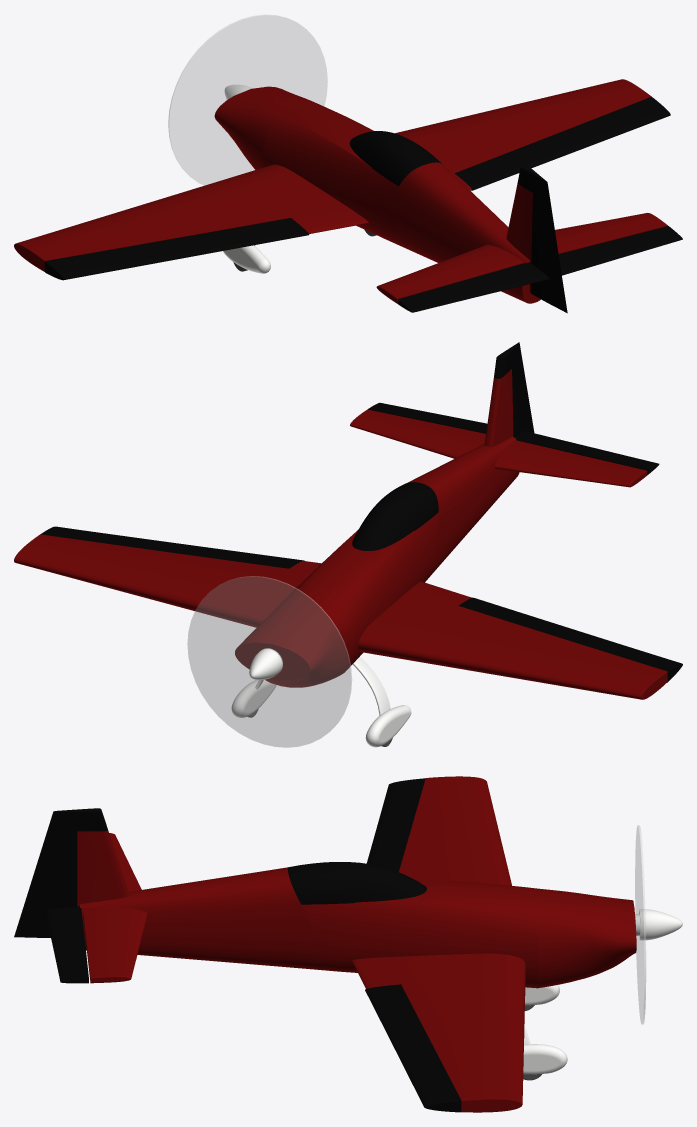
3 views of the same model, one above another, from view 1: azimuth 30°, elevation 25°; view 2: azimuth 150°, elevation 25°; view 3: azimuth 270°, elevation 25° (orthographic). The views are drawn at different scales.
Parts seen in each view (by area): view 1: Körper12, Körper24, Körper3, Körper2, Körper15, Körper6, Körper5, Körper19; view 2: Körper12, Körper24, Körper5, Körper3, Körper2, Körper15, Körper6, Körper19, Körper21, Körper16, Körper17; view 3: Körper12, Körper6, Körper15, Körper5, Körper3, Körper2, Körper24, Körper21, Körper16, Körper19.
Part boxes in pixels (x1,y1,x2,y2): Körper12: (14,79,667,303); Körper24: (168,14,327,185); Körper3: (44,218,309,280); Körper2: (397,226,682,312); Körper15: (455,96,670,190); Körper6: (517,165,567,313); Körper5: (349,131,441,186); Körper19: (223,245,270,273); Körper12: (14,369,667,699); Körper24: (187,576,351,747); Körper5: (352,482,438,550); Körper3: (459,597,682,682); Körper2: (367,402,659,474); Körper15: (41,526,304,568); Körper6: (494,342,534,436); Körper19: (365,705,411,747); Körper21: (231,680,276,717); Körper16: (249,648,282,679); Körper17: (255,657,390,715); Körper12: (77,776,636,1112); Körper6: (14,808,107,937); Körper15: (365,984,461,1112); Körper5: (287,862,426,904); Körper3: (366,778,425,871); Körper2: (45,906,88,983); Körper24: (635,825,645,1024); Körper21: (523,1044,567,1074); Körper16: (639,909,682,940); Körper19: (525,985,559,1005).
Size of the model in its own units: 7.09 by 2.48 by 6.18.
